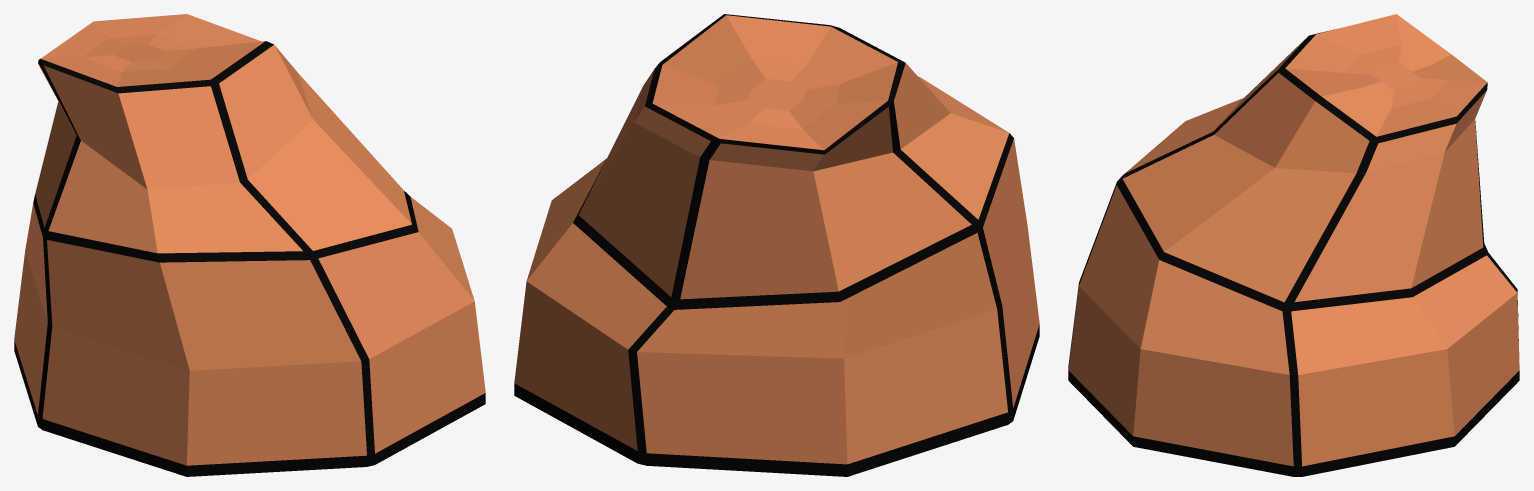
File: PaperRock04.fbx
The picture shows the model from 3 angles, left to right: view 1: azimuth 30°, elevation 25°; view 2: azimuth 150°, elevation 25°; view 3: azimuth 270°, elevation 25°; orthographic projection. The views are drawn at different scales.
Parts seen in each view (by area): view 1: Circle.023; view 2: Circle.023; view 3: Circle.023.
Part boxes in pixels (<box>): Circle.023: <box>14,14,485,476</box>; Circle.023: <box>514,14,1039,476</box>; Circle.023: <box>1068,14,1519,476</box>.
Size of the model in its own units: 1163 by 831 by 1146.
